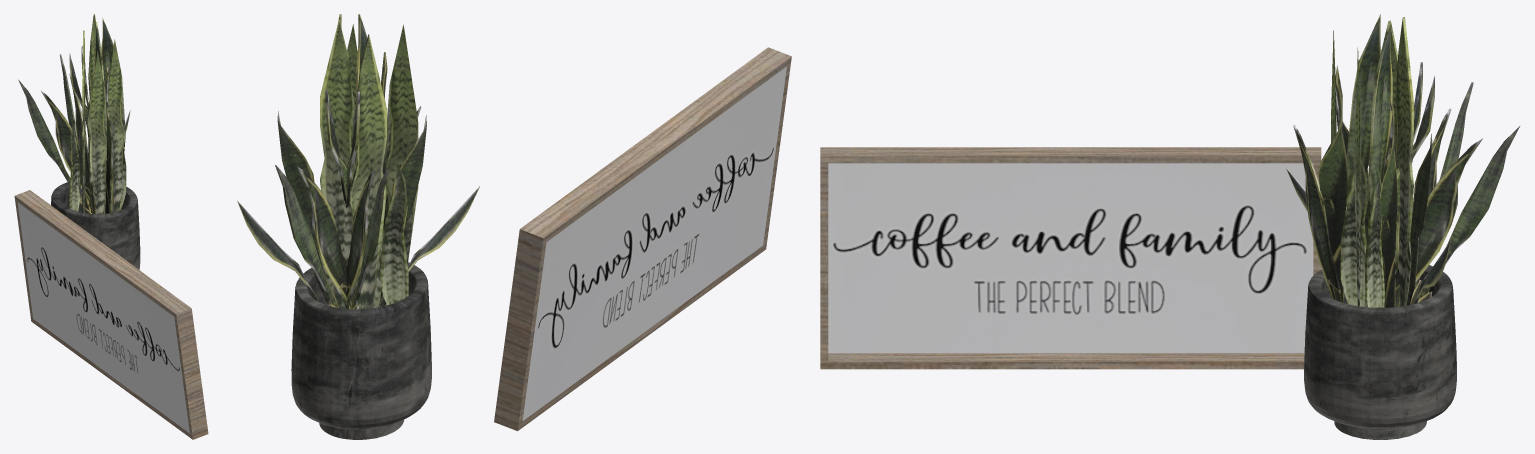
The model's file is Coffee Sign.dae.
3 renders of one model, left to right at view 1: azimuth 30°, elevation 25°; view 2: azimuth 150°, elevation 25°; view 3: azimuth 270°, elevation 25°, orthographic. The views are drawn at different scales.
Parts seen in each view (by area): view 1: image_0, Component_30, group_9 (×4), _3DGeom_4, group_8, group_7 (×4), group_6, group_4 (×2), group_5, group_10; view 2: image_0, _3DGeom_4, Component_30, group_4 (×4), group_5 (×3), group_7 (×3), group_8, group_9 (×3), group_6; view 3: image_0, _3DGeom_4, Component_30 (×2), group_7 (×4), group_9 (×5), group_4 (×2), group_10, group_6.
Part boxes in pixels (x1,y1,x2,y2): image_0: [17, 202, 189, 433]; Component_30: [14, 190, 208, 439]; group_9 (×4): [18, 18, 126, 213]; _3DGeom_4: [51, 182, 140, 269]; group_8: [90, 51, 106, 213]; group_7 (×4): [59, 22, 111, 213]; group_6: [108, 39, 125, 211]; group_4 (×2): [69, 14, 95, 213]; group_5: [82, 30, 85, 212]; group_10: [111, 123, 113, 212]; image_0: [522, 66, 786, 420]; _3DGeom_4: [291, 262, 431, 439]; Component_30: [494, 47, 791, 431]; group_4 (×4): [237, 19, 408, 308]; group_5 (×3): [349, 34, 479, 309]; group_7 (×3): [275, 90, 354, 309]; group_8: [386, 24, 418, 263]; group_9 (×3): [346, 91, 388, 309]; group_6: [347, 24, 357, 163]; image_0: [828, 163, 1313, 353]; _3DGeom_4: [1304, 265, 1456, 439]; Component_30 (×2): [820, 147, 1321, 369]; group_7 (×4): [1318, 14, 1519, 306]; group_9 (×5): [1365, 21, 1473, 307]; group_4 (×2): [1395, 17, 1432, 306]; group_10: [1293, 124, 1342, 302]; group_6: [1355, 47, 1361, 306].
Bounding box in the file's own units: 10.52 × 26.1 × 16.93.
